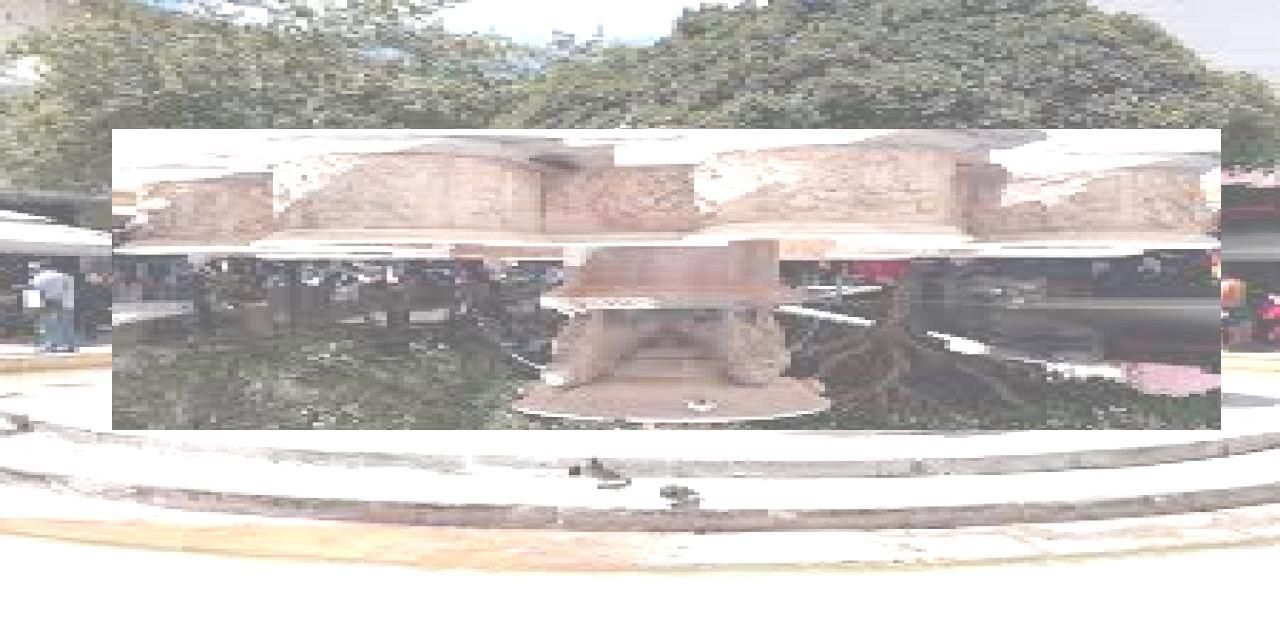Liontaria: (113, 130, 1222, 431)
